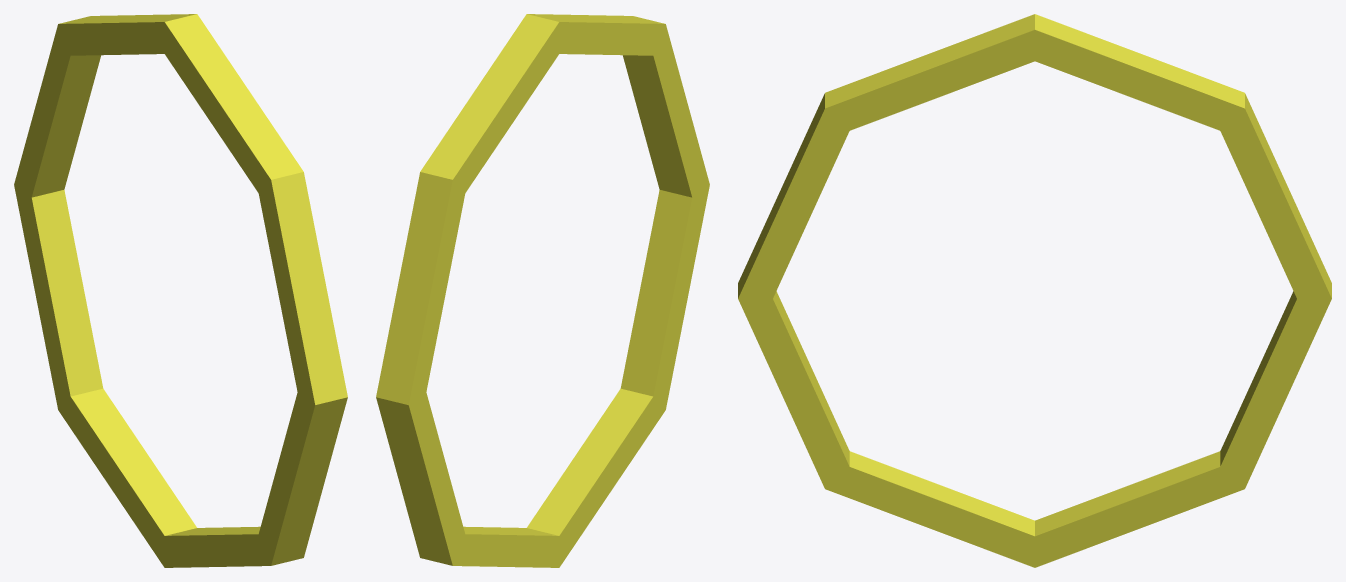
The model's file is Ring.fbx.
3 renders of one model, left to right at view 1: azimuth 30°, elevation 25°; view 2: azimuth 150°, elevation 25°; view 3: azimuth 270°, elevation 25°, orthographic.
Visible parts, largest first — view 1: Ring; view 2: Ring; view 3: Ring.
Part boxes in pixels (x1=…): Ring: x1=14, y1=14, x2=347, y2=567; Ring: x1=376, y1=14, x2=709, y2=567; Ring: x1=738, y1=14, x2=1331, y2=567.
Size of the model in its own units: 50.17 by 800 by 800.
